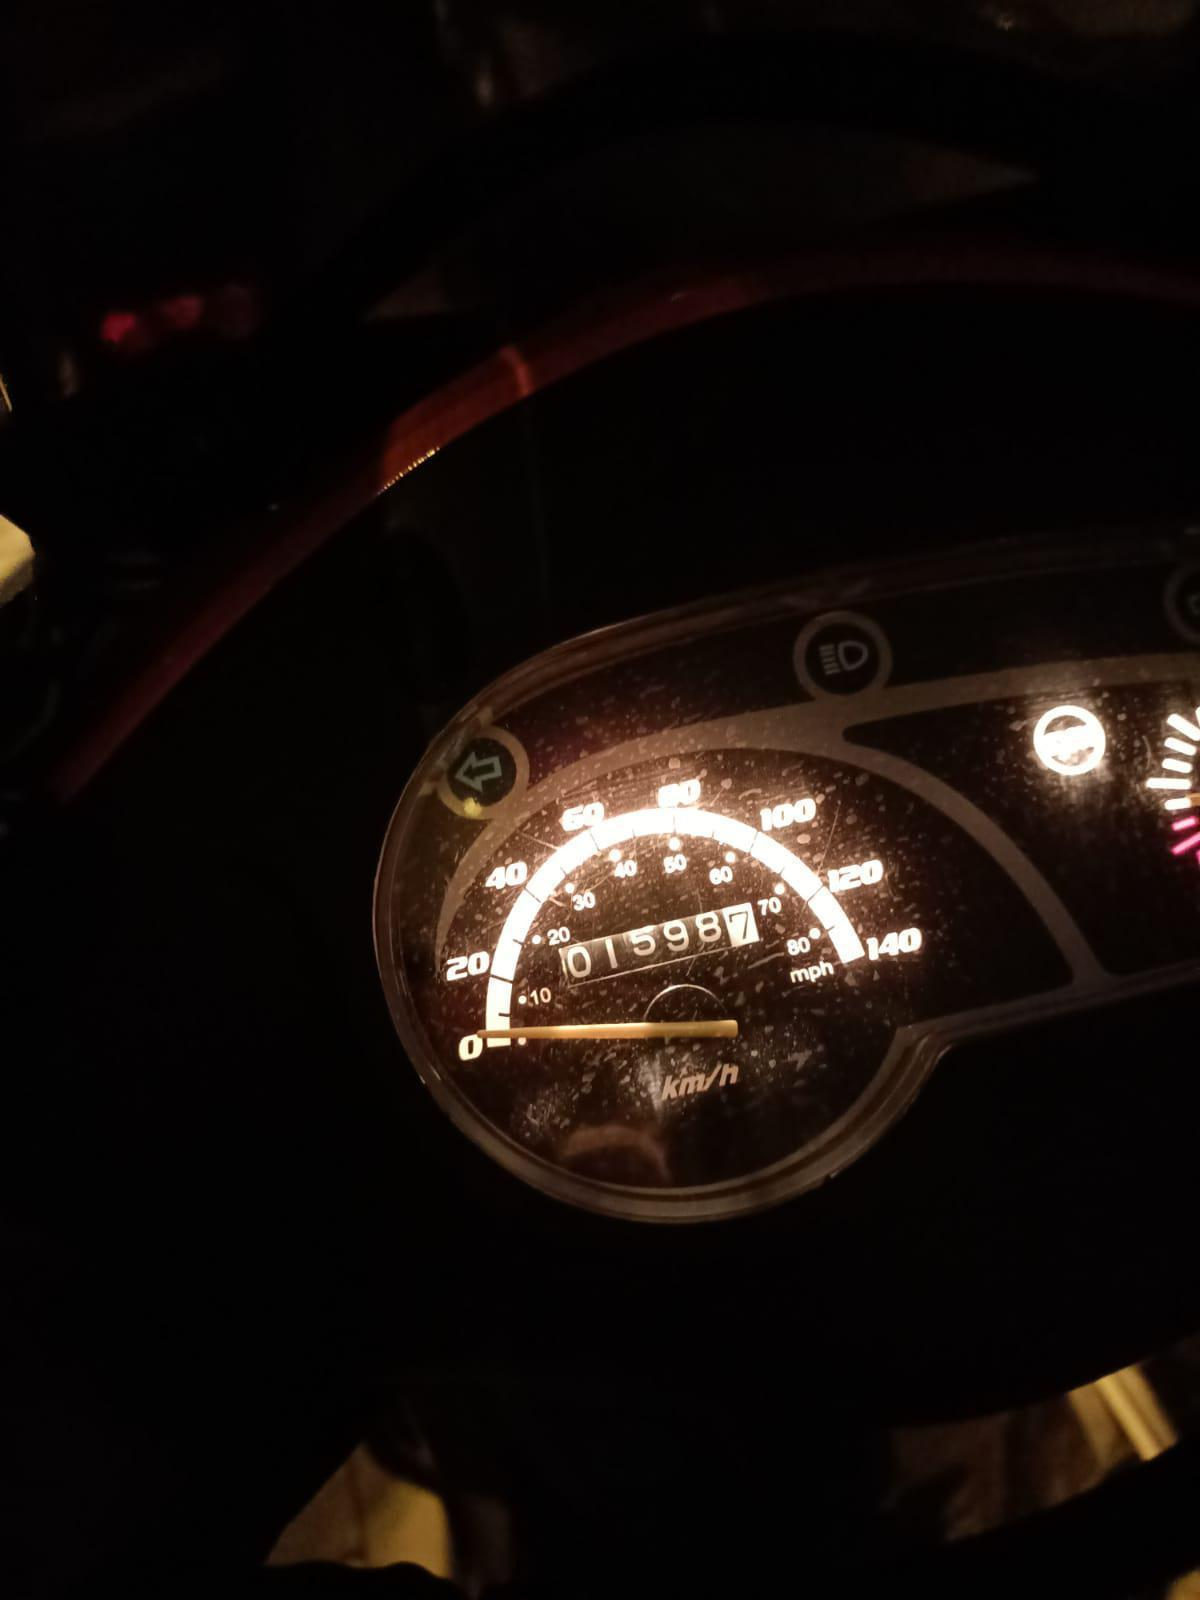0: (565, 944, 594, 978), (558, 922, 572, 942), (584, 889, 596, 908), (769, 896, 780, 913)
1: (600, 934, 621, 973)
2: (548, 929, 558, 946)
3: (571, 894, 584, 911)
5: (626, 923, 658, 957)
7: (727, 910, 751, 942), (758, 897, 770, 918)
8: (695, 911, 724, 942)
9: (662, 918, 691, 951)
odometer: (548, 896, 779, 995)
